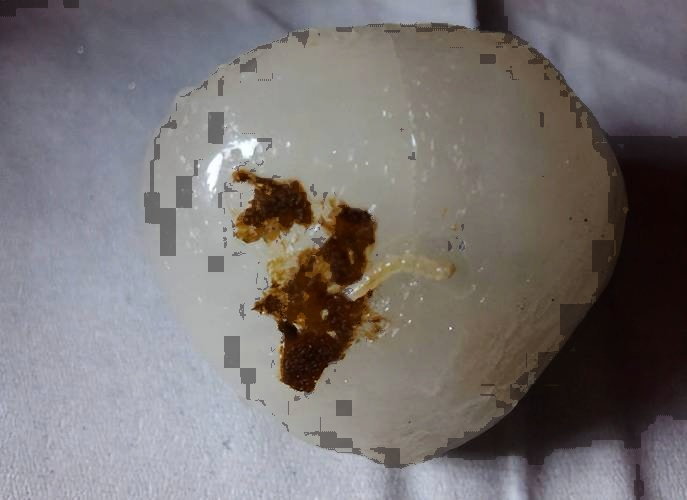Borer: (338, 251, 463, 290)
